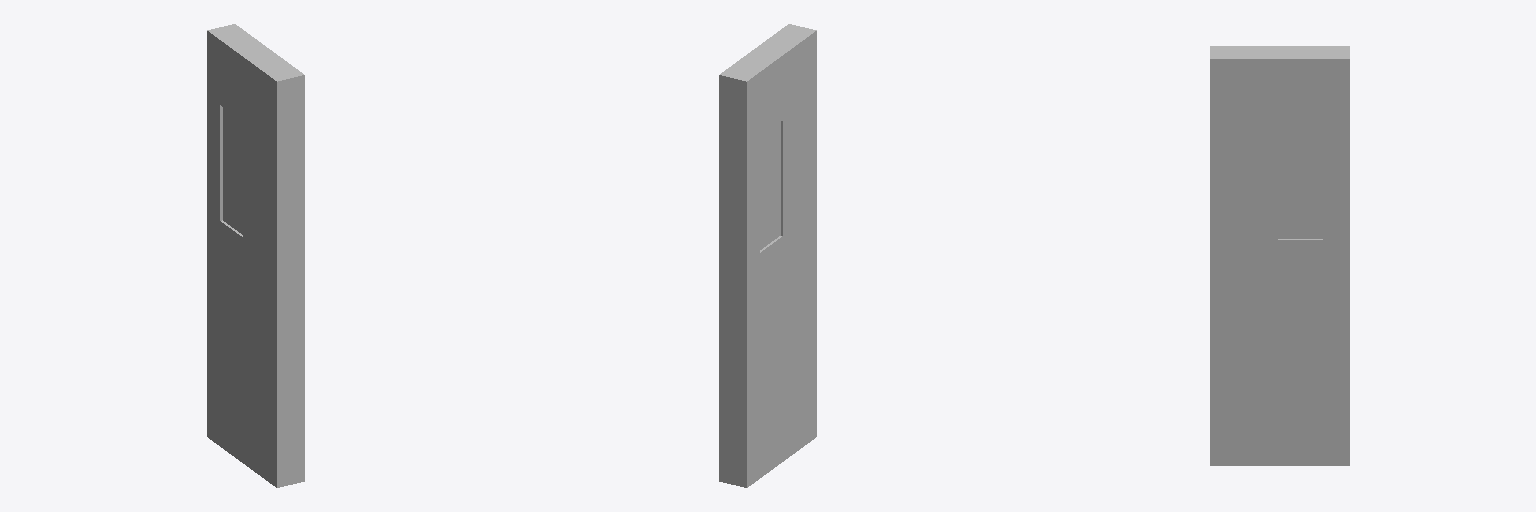
The model's file is LeftDoor.obj.
3 views of the same model, side by side, from view 1: azimuth 30°, elevation 25°; view 2: azimuth 150°, elevation 25°; view 3: azimuth 270°, elevation 25° (orthographic).
Visible parts, largest first — view 1: Box007, Object001; view 2: Box007, Object001; view 3: Box007, Object001.
Boxes of the visible parts, box(x1,y1,x2,y2) form: Box007: box(207, 24, 304, 487); Object001: box(223, 107, 242, 234); Box007: box(719, 24, 816, 487); Object001: box(760, 122, 780, 249); Box007: box(1210, 46, 1349, 465); Object001: box(1278, 124, 1322, 238).
Size of the model in its own units: 27.03 by 377 by 117.